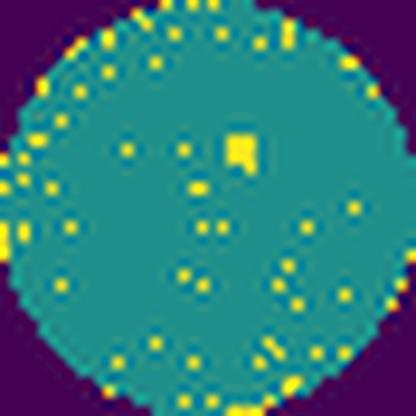Loc: (225, 131, 260, 176)
